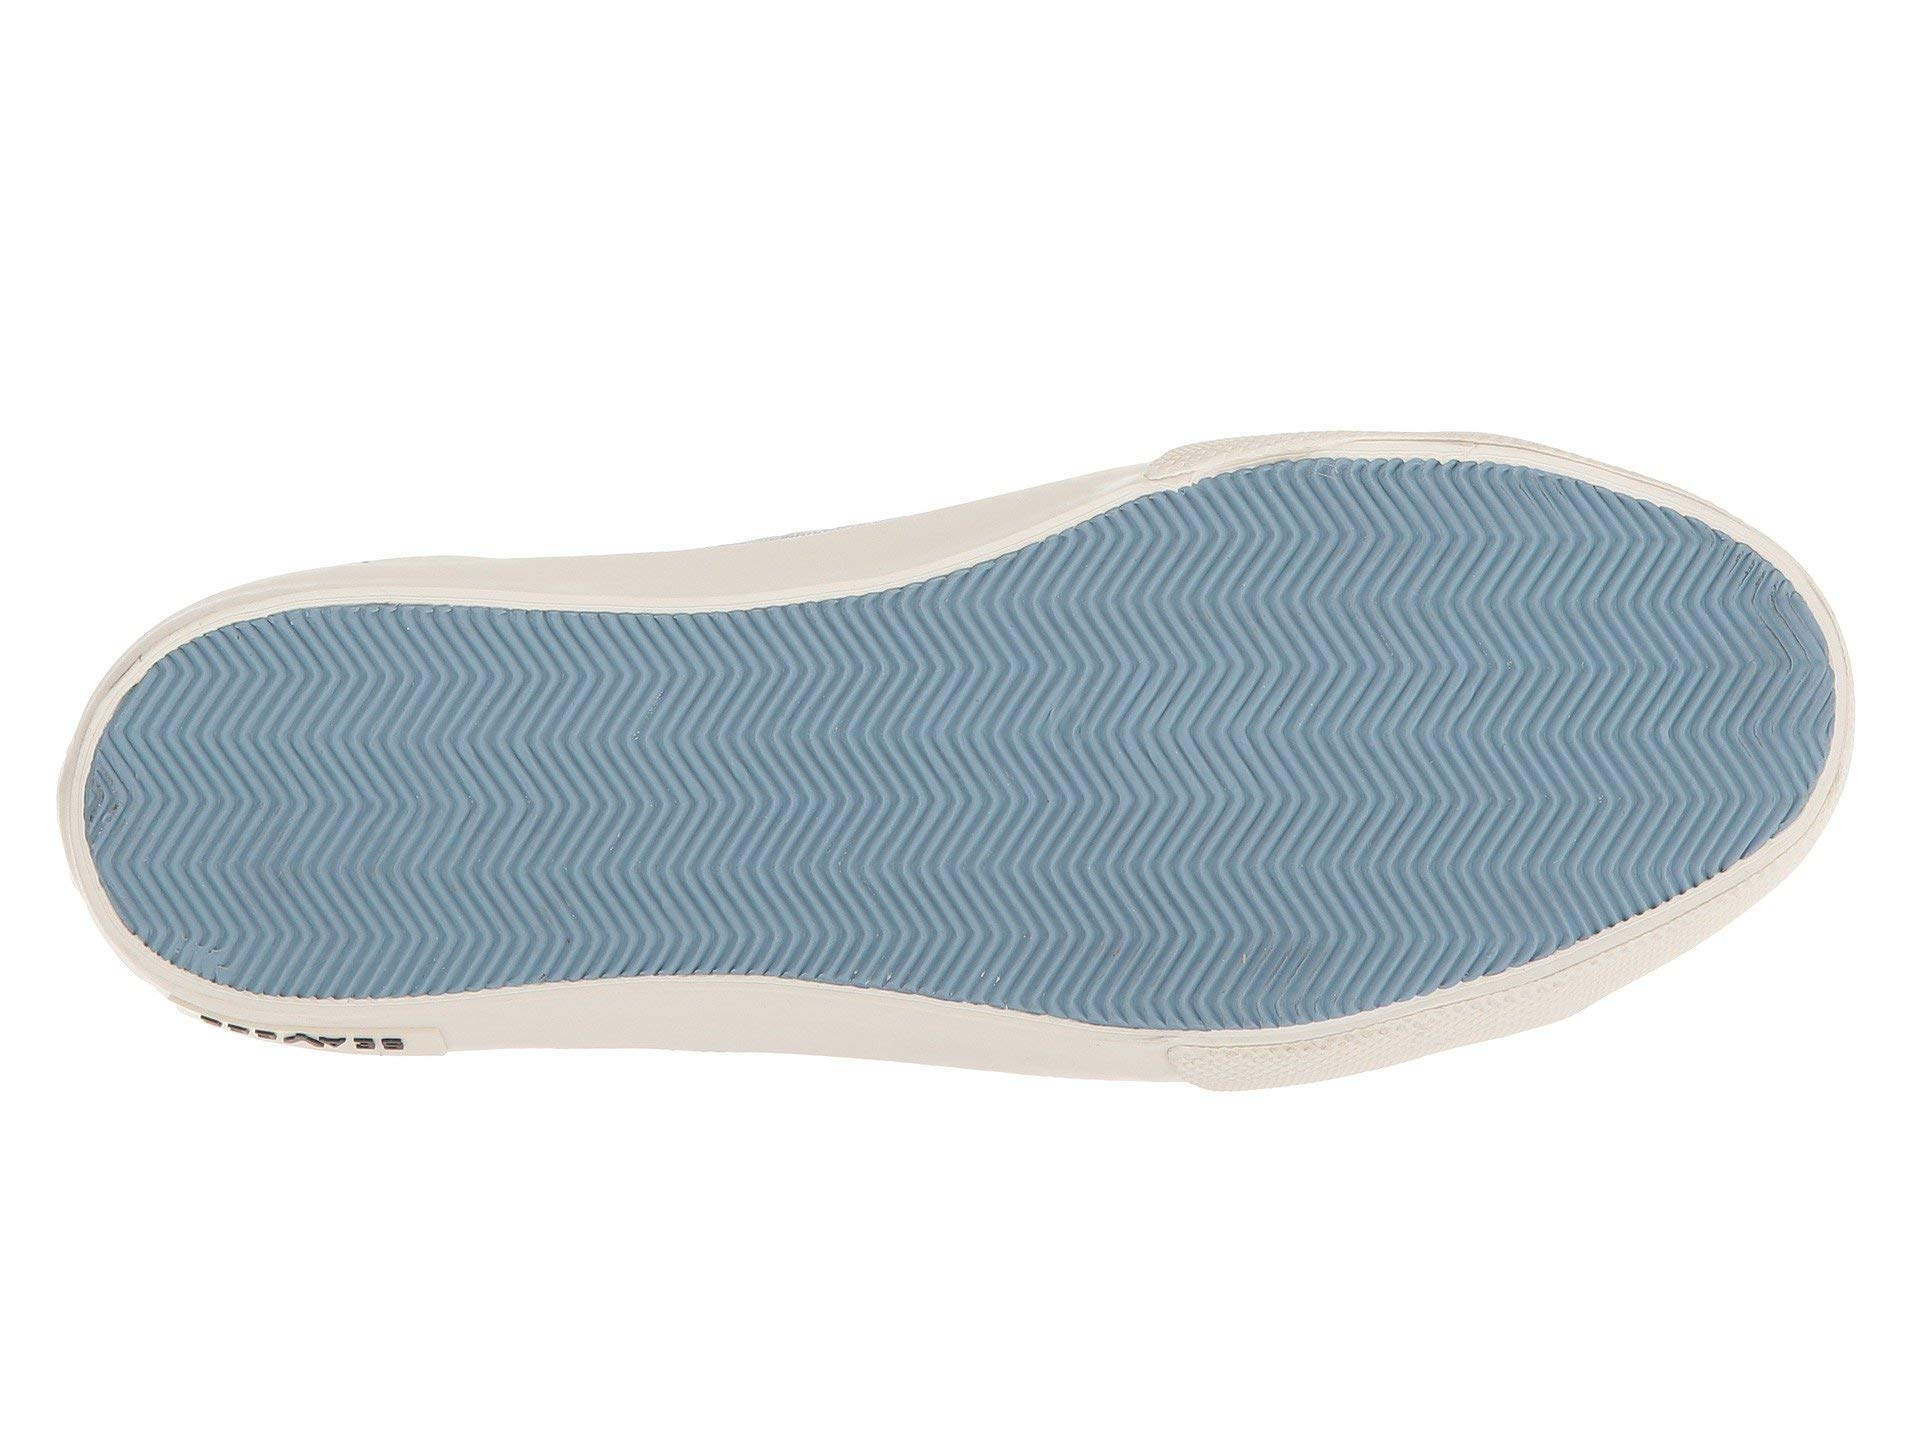chevron: (1225, 469, 1606, 874), (868, 610, 1222, 1009), (491, 620, 851, 967), (168, 664, 485, 965), (1618, 560, 1846, 793)
